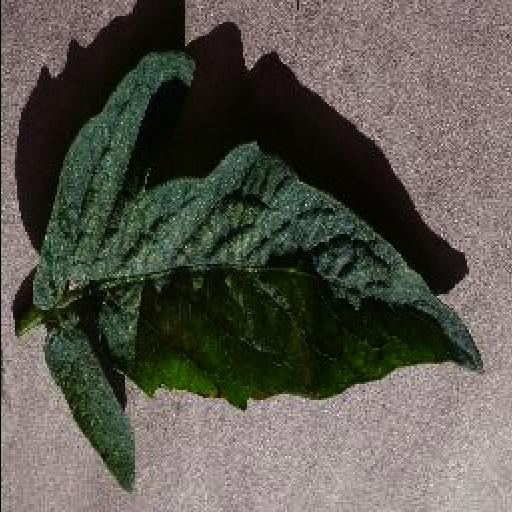disease_tomato: (28, 48, 488, 490)
